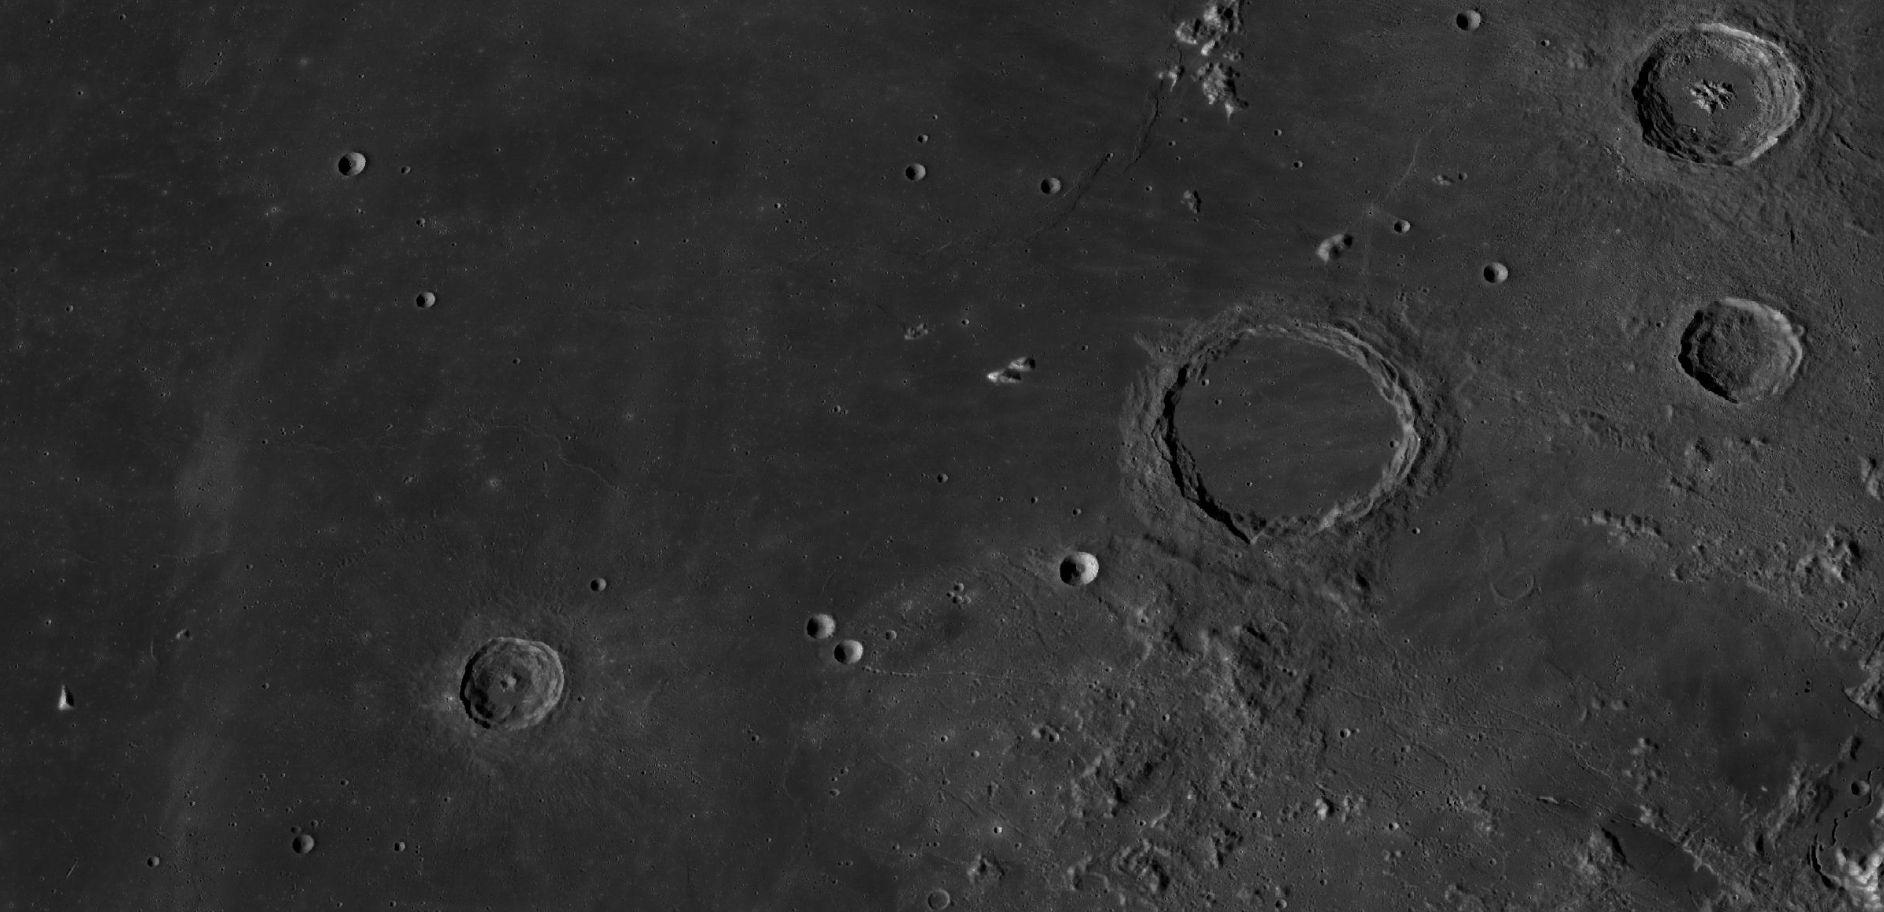crater: (1111, 262, 1480, 658), (1582, 6, 1849, 217), (387, 604, 627, 806), (1629, 269, 1828, 445), (1405, 1, 1531, 65), (1035, 527, 1113, 625), (1008, 129, 1077, 202), (323, 132, 378, 195)
